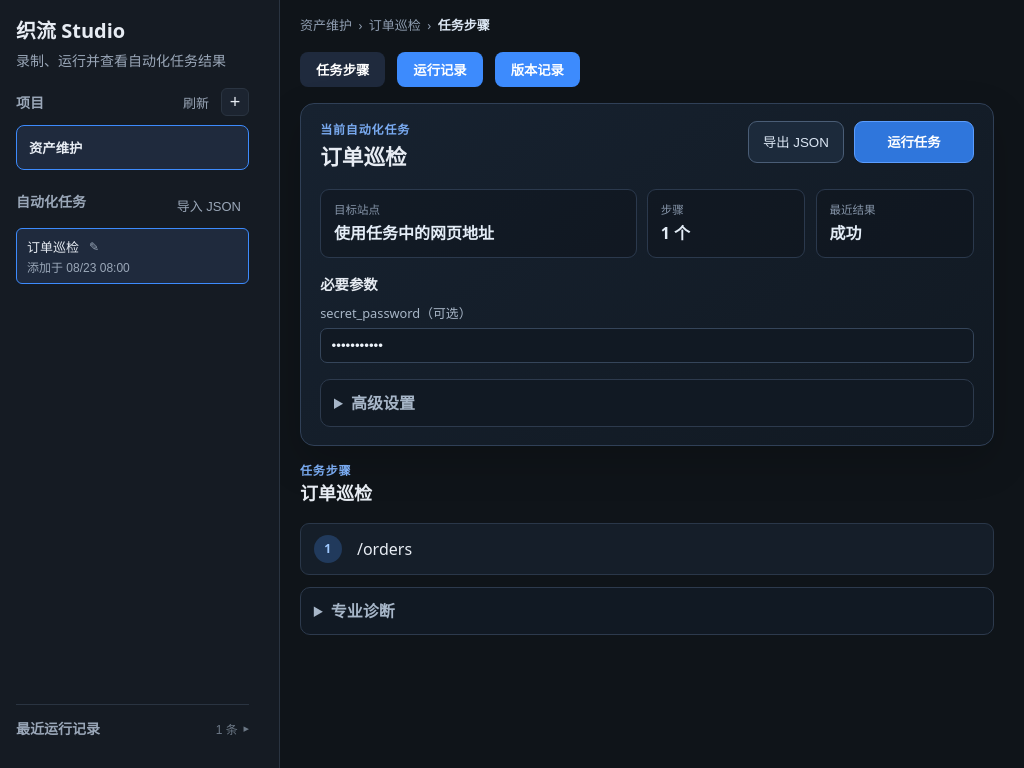
Test: Studio 本地资产维护 › 删除伪响应不刷新列表并以安全错误留在确认框
Click the button "最近运行记录 1 条 ▸" at (132, 728), box [16,713,249,744]
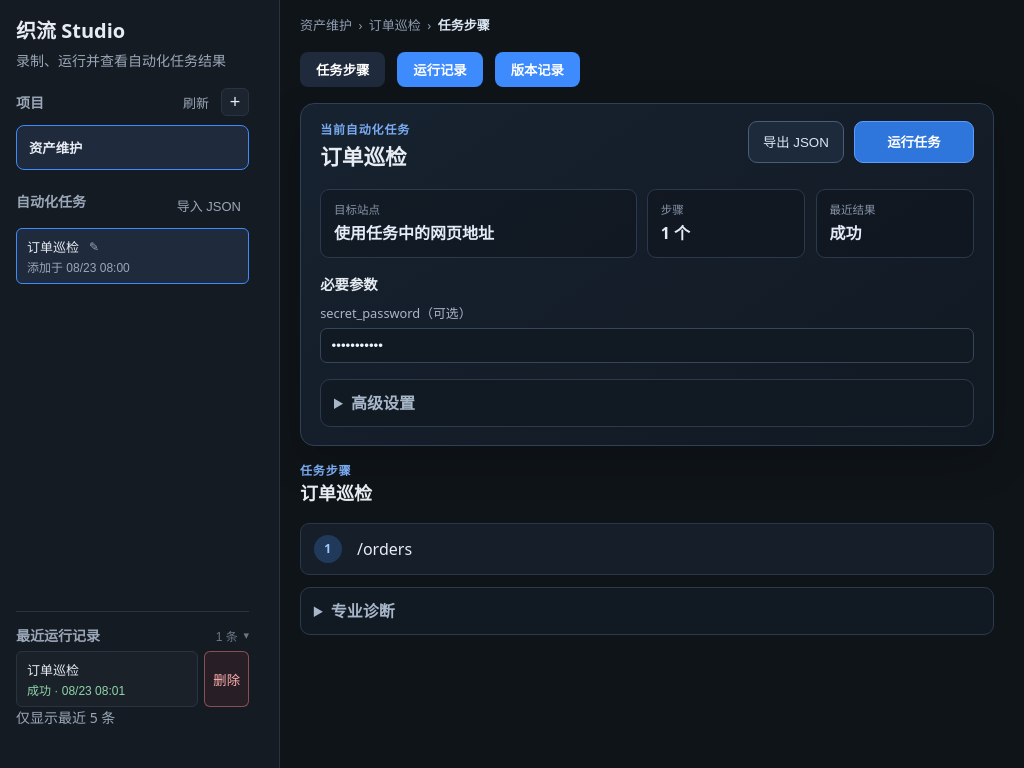
Click the button with class "execution-history-delete" at (227, 679), box [204,651,249,707]
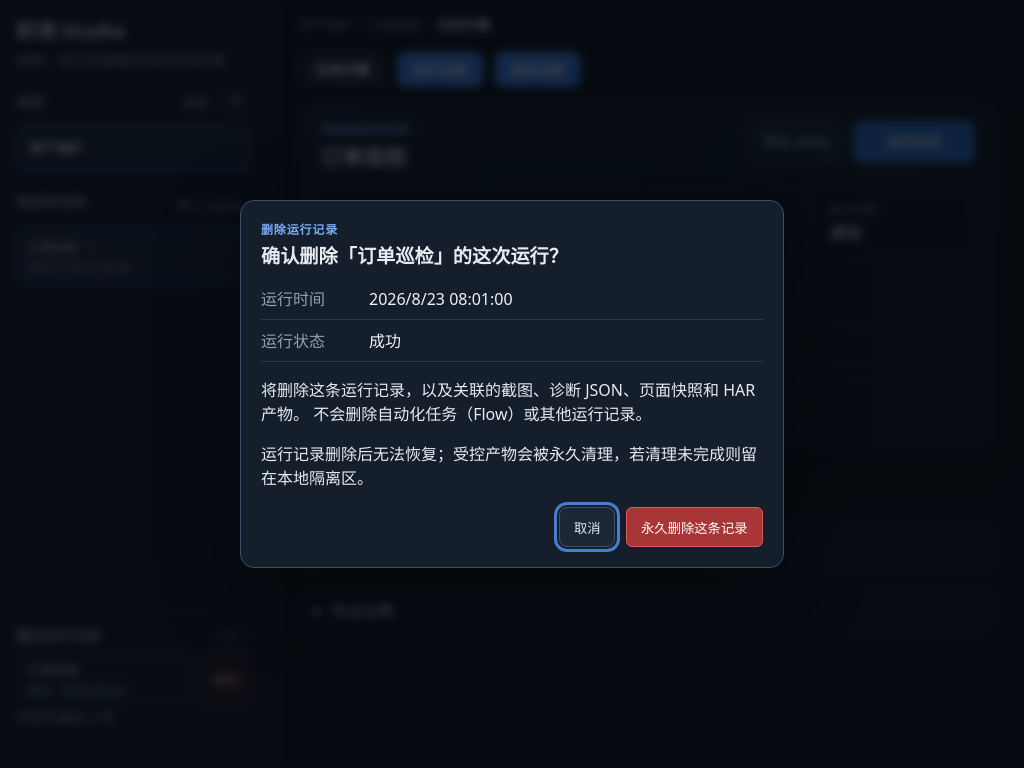
Click the button "永久删除这条记录" at (694, 527), box [626,507,763,547]
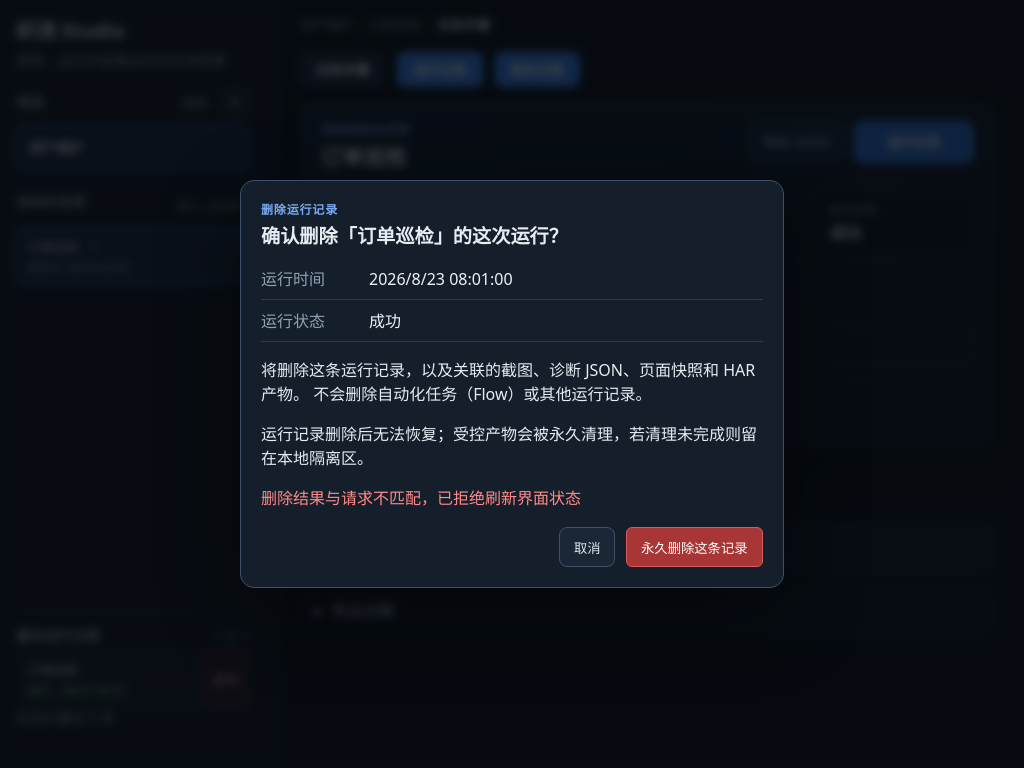
Result: the message "删除结果与请求不匹配，已拒绝刷新界面状态" is shown at [261,486,581,508]
